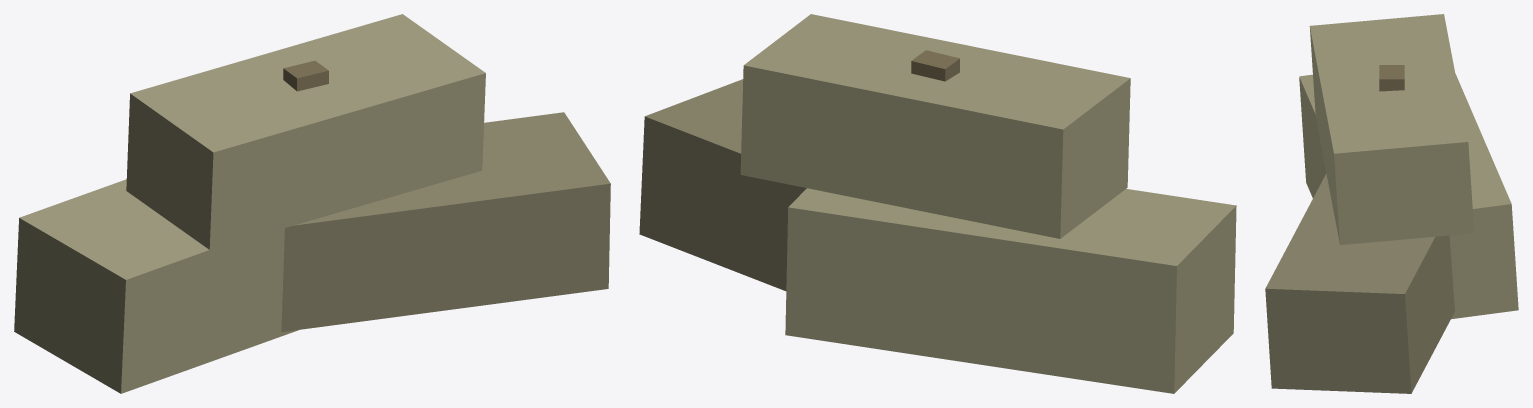
Rendered from sandbag.glb.
The picture shows the model from 3 angles, left to right: view 1: azimuth 30°, elevation 25°; view 2: azimuth 150°, elevation 25°; view 3: azimuth 270°, elevation 25°; orthographic projection. The views are drawn at different scales.
Parts seen in each view (by area): view 1: Bag2, Bag1, Bag0, BagTie_2; view 2: Bag0, Bag2, Bag1, BagTie_2; view 3: Bag2, Bag1, Bag0, BagTie_2.
Part boxes in pixels (x1,y1,x2,y2): Bag2: (126, 14, 485, 249); Bag1: (281, 112, 610, 332); Bag0: (14, 179, 298, 393); BagTie_2: (283, 60, 328, 91); Bag0: (785, 188, 1236, 393); Bag2: (740, 14, 1130, 238); Bag1: (639, 79, 806, 290); BagTie_2: (911, 50, 959, 81); Bag2: (1309, 14, 1474, 245); Bag1: (1265, 173, 1454, 393); Bag0: (1299, 73, 1518, 319); BagTie_2: (1379, 65, 1404, 91).
Size of the model in its own units: 0.658 by 0.2803 by 0.3004.
